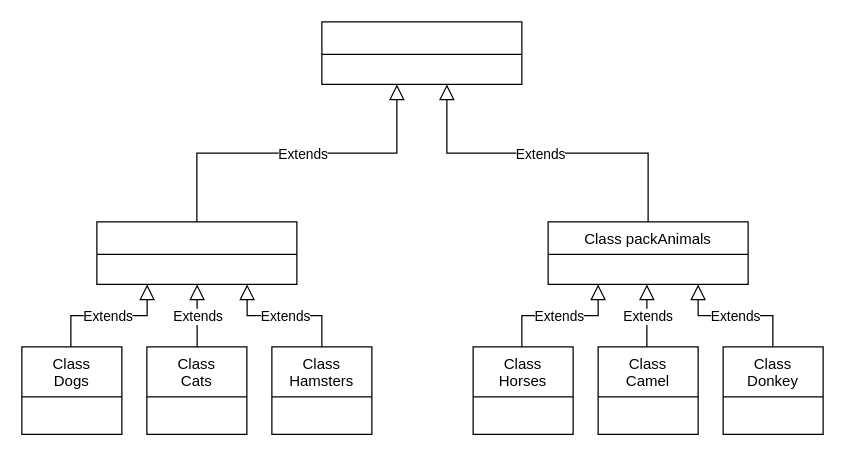
Some shapes in this 845 by 456 pixel diagram are drawn without their labels. Each missing label, with the box of its shape:
Class Animals: (321, 21, 522, 84)
Class homePets: (96, 221, 297, 284)
